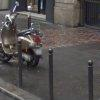Motorcycle: (2, 7, 51, 73)
